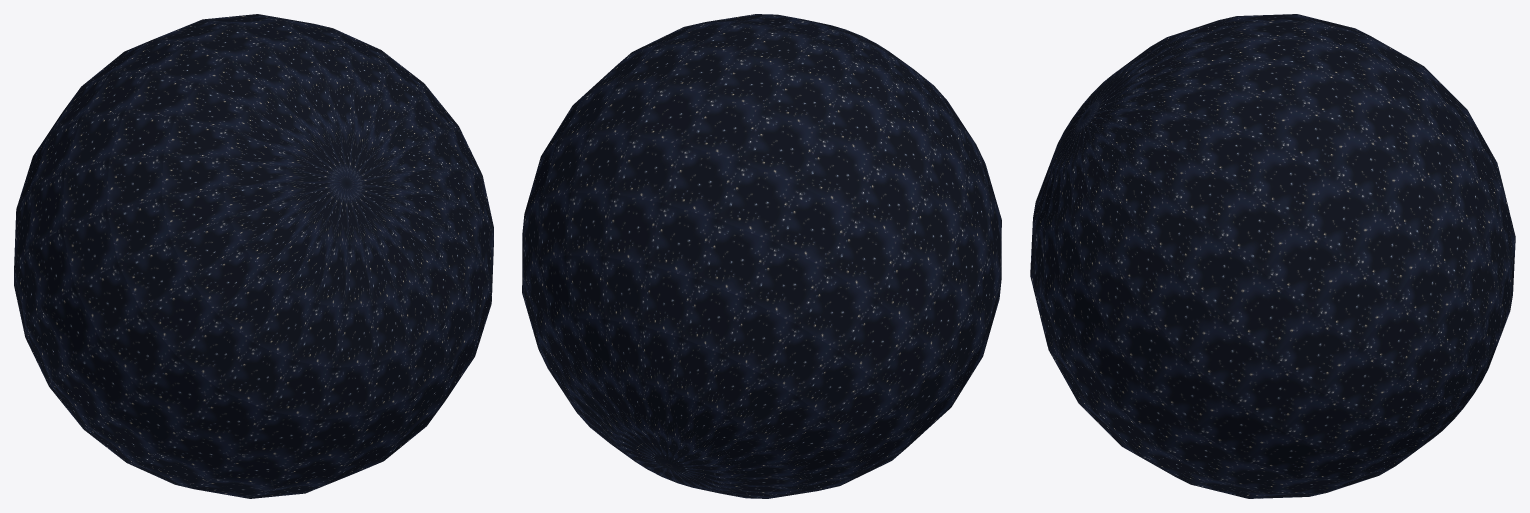
The model's file is starfield_ss.fbx.
3 renders of one model, left to right at view 1: azimuth 30°, elevation 25°; view 2: azimuth 150°, elevation 25°; view 3: azimuth 270°, elevation 25°, orthographic.
Parts seen in each view (by area): view 1: starfield_ss; view 2: starfield_ss; view 3: starfield_ss.
Part boxes in pixels (x1=…): starfield_ss: x1=14, y1=14, x2=493, y2=498; starfield_ss: x1=522, y1=14, x2=1001, y2=498; starfield_ss: x1=1030, y1=14, x2=1515, y2=498.
Size of the model in its own units: 80 by 79.7 by 79.7.
Materials: 1 (1 with a texture image).
